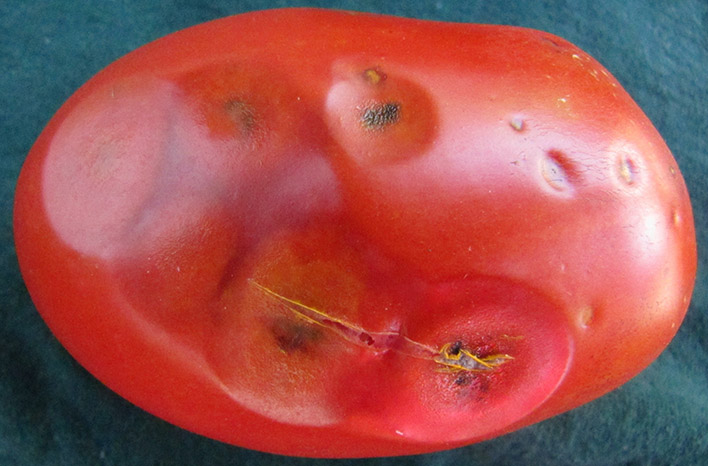anthracnose: (251, 239, 554, 425), (331, 74, 478, 193)
